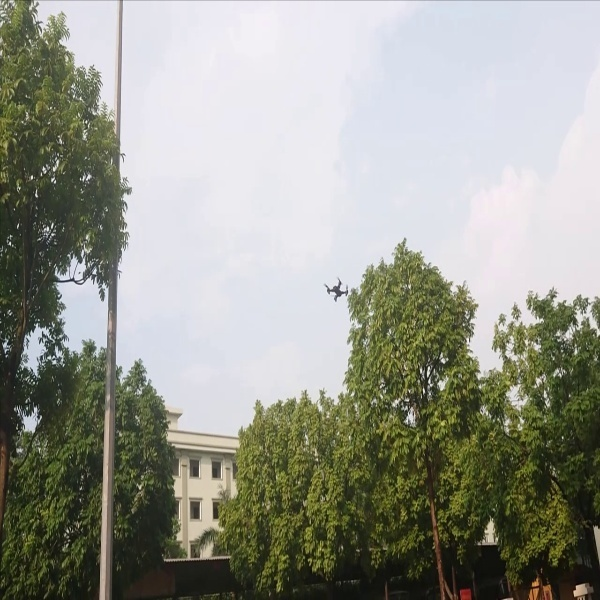drone: (318, 276, 355, 304)
